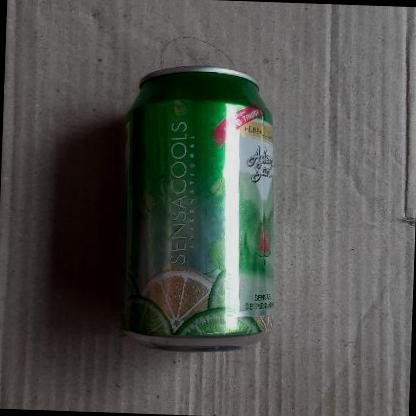alumunium_can: (98, 41, 290, 362)
